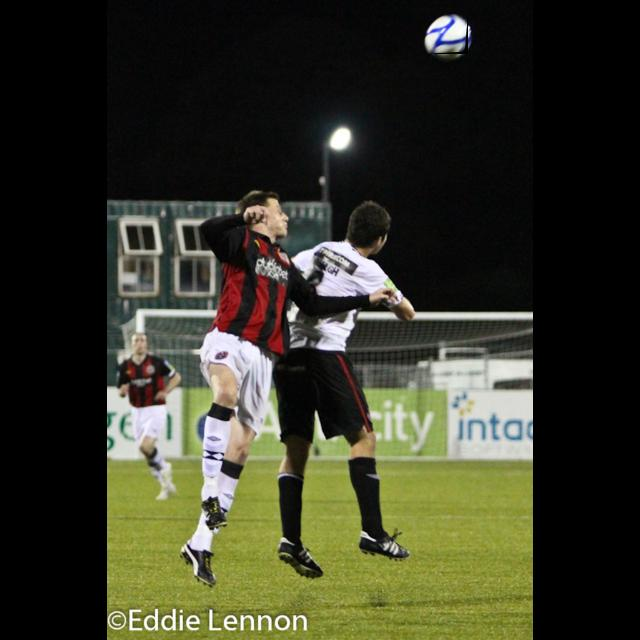Football: (422, 14, 468, 54)
